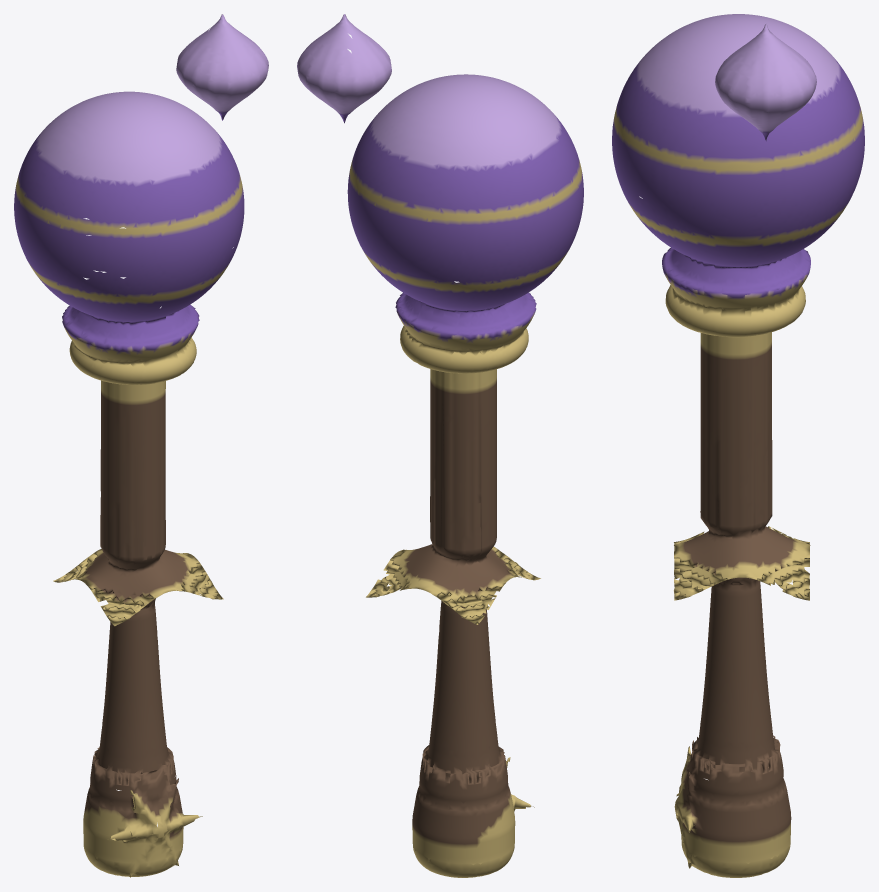
File: kraliyet_asasi.glb
The picture shows the model from 3 angles, left to right: view 1: azimuth 30°, elevation 25°; view 2: azimuth 150°, elevation 25°; view 3: azimuth 270°, elevation 25°; orthographic projection. The views are drawn at different scales.
Bounding box in the file's own units: 4.41 × 13.92 × 3.58.
